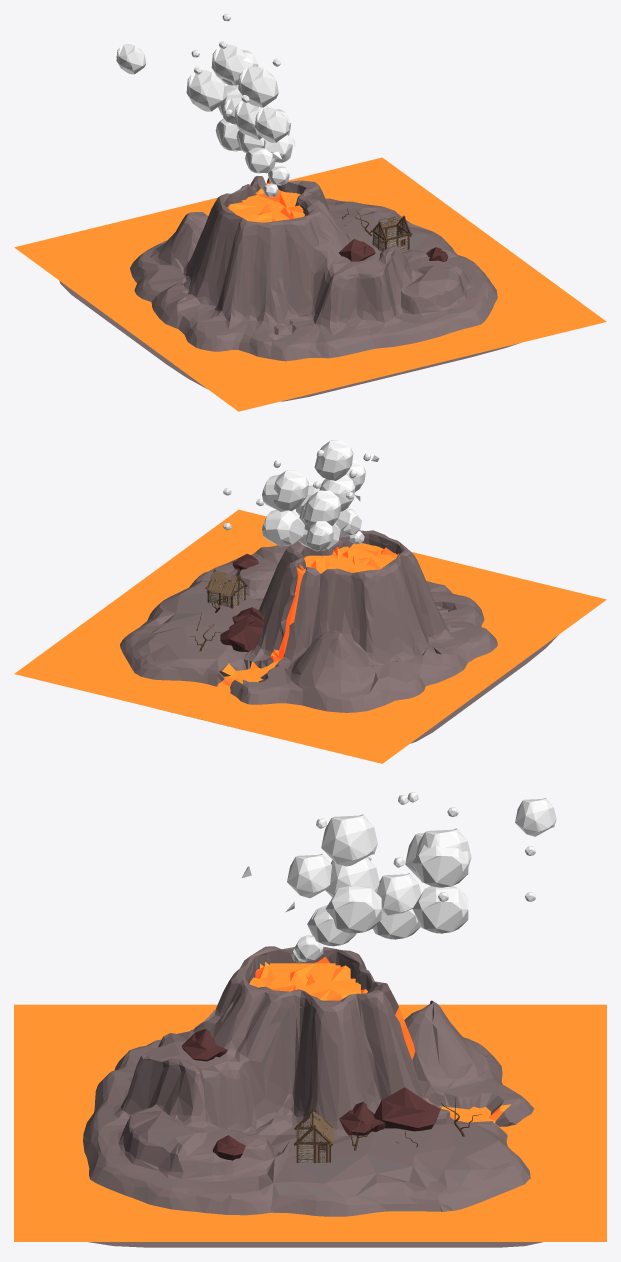
File: island_entei.glb
3 views of the same model, one above another, from view 1: azimuth 30°, elevation 25°; view 2: azimuth 150°, elevation 25°; view 3: azimuth 270°, elevation 25° (orthographic). The views are drawn at different scales.
Visible parts, largest first — view 1: pPlane1, pPlane3, pPlane2, pCube345, pCube340, pCube350, pCube335, pCube338, pCube341, pCube5, pCube11, pCube4; view 2: pPlane1, pPlane3, pPlane2, pCube344, pCube340, pCube350, pCube345, pCube2, pCube341, pCube338; view 3: pPlane1, pPlane3, pPlane2, pCube340, pCube8, pCube344, pCube2, pCube349, pCube335, pCube336, pCube338, pCube341 (+5 smaller).
Boxes of the visible parts, x1,y1,x2,y2 form: pPlane1: (59,176,519,401); pPlane3: (14,157,606,411); pPlane2: (227,188,304,222); pCube345: (186,70,227,111); pCube340: (238,66,278,107); pCube350: (211,44,247,85); pCube335: (255,108,289,142); pCube338: (234,101,268,139); pCube341: (116,44,146,74); pCube5: (245,147,275,173); pCube11: (215,118,242,151); pCube4: (339,239,375,261); pPlane1: (120,530,558,743); pPlane3: (14,509,606,763); pPlane2: (304,543,399,573); pCube344: (262,510,304,546); pCube340: (314,440,353,480); pCube350: (274,470,308,510); pCube345: (302,490,341,526); pCube2: (220,616,264,651); pCube341: (305,521,333,550); pCube338: (319,474,355,511); pPlane1: (83,946,542,1247); pPlane3: (14,1004,606,1241); pPlane2: (249,956,367,1007); pCube340: (321,814,377,866); pCube8: (325,886,381,933); pCube344: (412,886,468,933); pCube2: (374,1087,440,1131); pCube349: (412,845,468,887); pCube335: (287,854,331,898); pCube336: (377,873,421,915); pCube338: (325,857,379,897); pCube341: (515,798,556,836).
Size of the model in its own units: 88.92 by 55.68 by 93.89.
